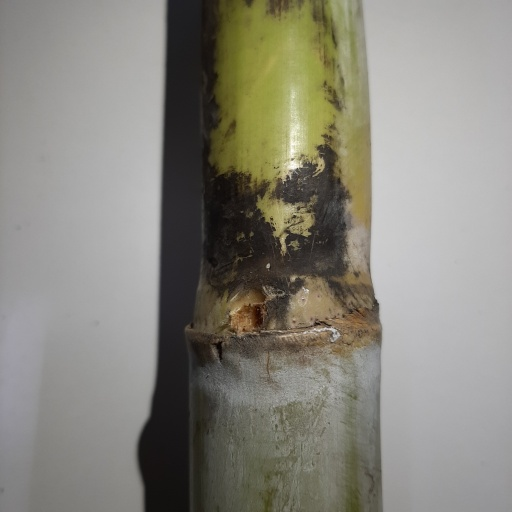Damage_Bud: (225, 303, 264, 335)
